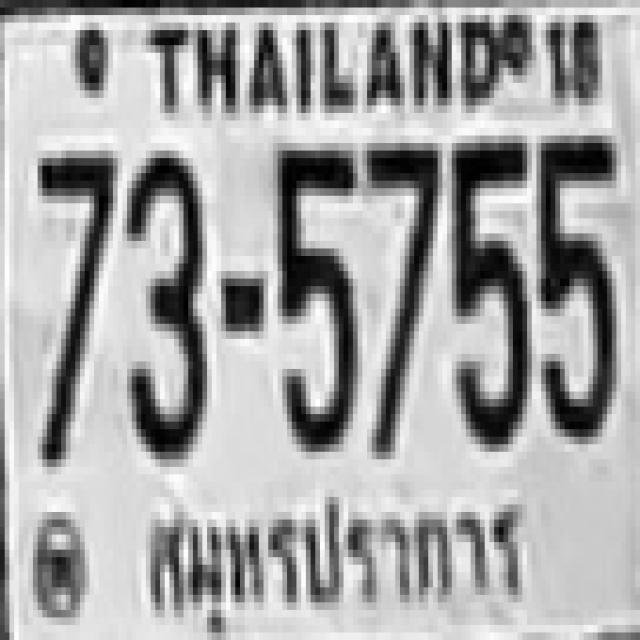3: (122, 143, 202, 452)
5: (447, 136, 527, 444), (273, 143, 353, 444), (536, 128, 612, 437)
7: (33, 143, 113, 459), (362, 136, 438, 452), (33, 143, 113, 361), (362, 135, 438, 354)
SamutPrakan: (138, 490, 528, 626)
